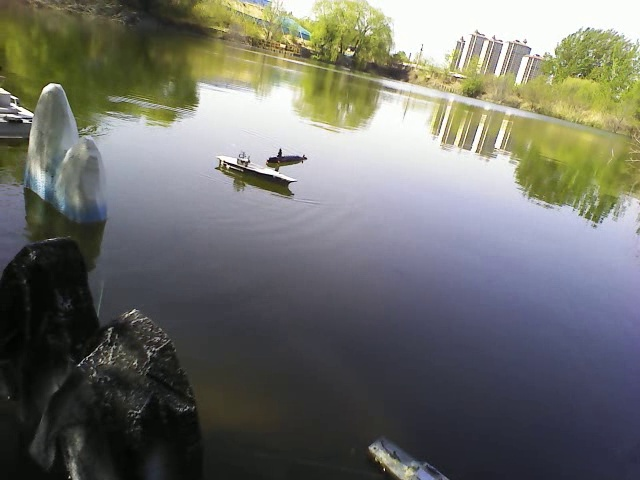aircraft_carrier: (214, 148, 299, 194)
iceberg: (18, 78, 115, 226)
rock: (5, 233, 207, 475)
submarine: (266, 148, 313, 170)
warship: (368, 428, 458, 479)
